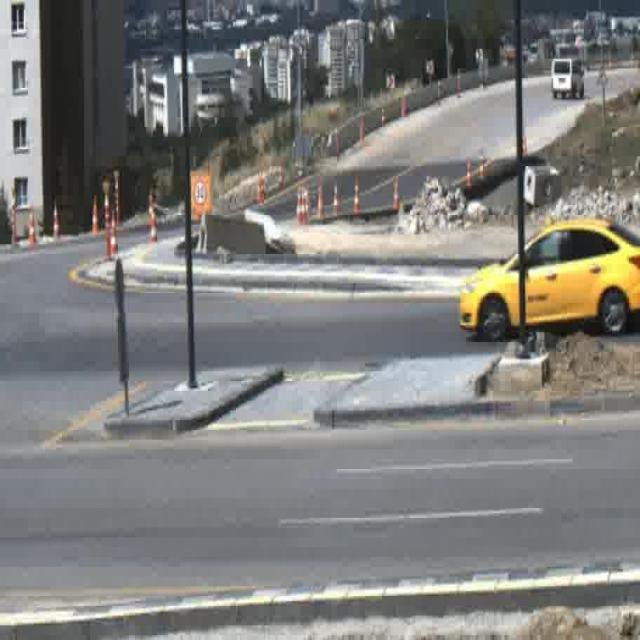Car: (455, 216, 640, 342), (551, 56, 584, 100)
